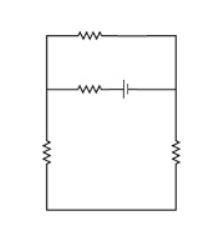resistor: (66, 20, 110, 47), (65, 77, 108, 100), (165, 125, 184, 172), (35, 131, 56, 173)
